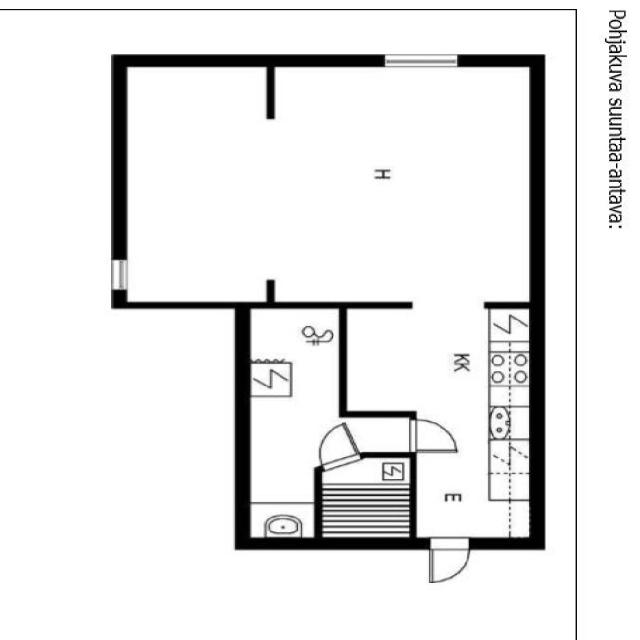door: (422, 535, 477, 589), (401, 411, 465, 457), (313, 420, 361, 468)
window: (374, 50, 465, 72), (106, 255, 132, 294)
zone: (267, 65, 531, 312), (126, 54, 276, 310), (341, 304, 535, 417), (412, 410, 536, 546), (319, 454, 416, 544)
